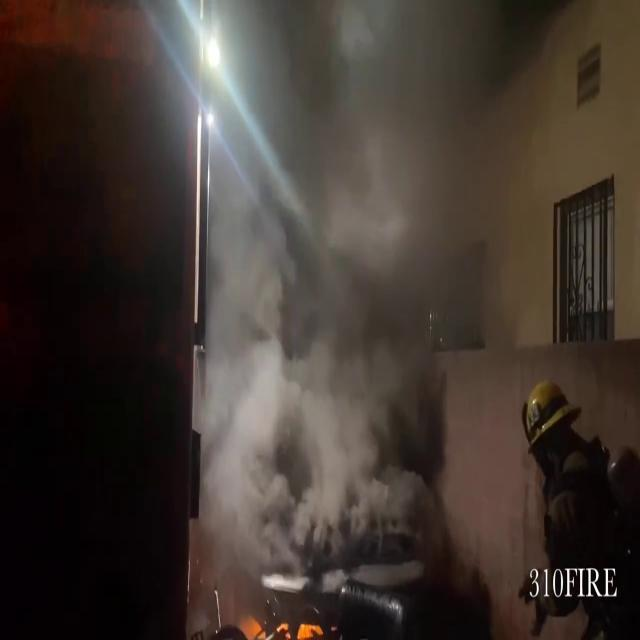Fire: (238, 604, 329, 640)
Smoke: (192, 0, 568, 615)
